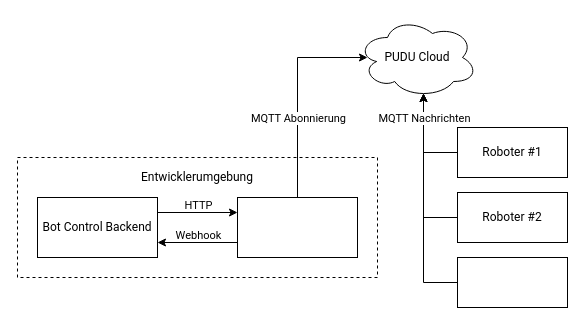
The diagram is 585 pixels wide and 325 high, and some of its shapes have lost their labels. The shapes that lost their labels are listed below. From the top down, each one's box as (x1, y1, x2, y2) in pixels, then its label:
(236, 196, 358, 258): Microservice
(456, 256, 568, 308): Roboter #3
